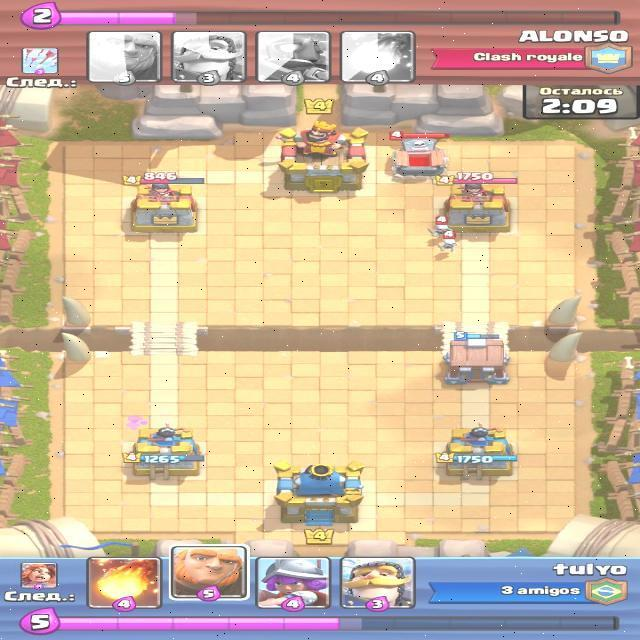EKingTower: (278, 128, 369, 193)
ELarry: (427, 214, 454, 236), (439, 236, 460, 255)
ETomb: (388, 130, 451, 179)
EnemyPrincessTower: (131, 177, 197, 230), (448, 182, 513, 232)
OGoblinCage: (441, 327, 509, 387)
OwnKingTower: (270, 459, 368, 528)
OwnPrincessTower: (131, 424, 196, 474), (447, 428, 511, 475)
